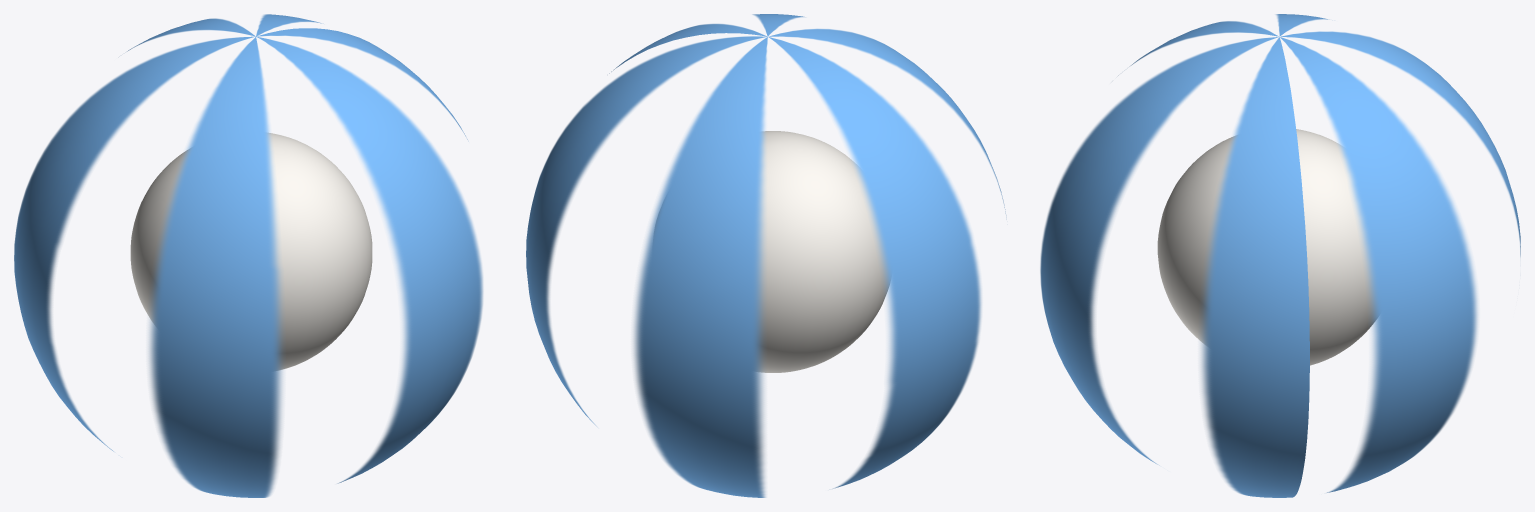
Rendered from transparency_opacity.glb.
The picture shows the model from 3 angles, left to right: view 1: azimuth 30°, elevation 25°; view 2: azimuth 150°, elevation 25°; view 3: azimuth 270°, elevation 25°; orthographic projection.
Visible parts, largest first — view 1: Sphere 2, Aluminium Sphere; view 2: Sphere 2, Aluminium Sphere; view 3: Sphere 2, Aluminium Sphere.
Part boxes in pixels (x1,y1,x2,y2): Sphere 2: [14, 14, 483, 497]; Aluminium Sphere: [130, 132, 372, 370]; Sphere 2: [526, 14, 1006, 497]; Aluminium Sphere: [654, 131, 890, 372]; Sphere 2: [1040, 14, 1520, 497]; Aluminium Sphere: [1157, 129, 1378, 365].
Size of the model in its own units: 0.0963 by 0.0963 by 0.0962.
Materials: 2 (1 with a texture image).
